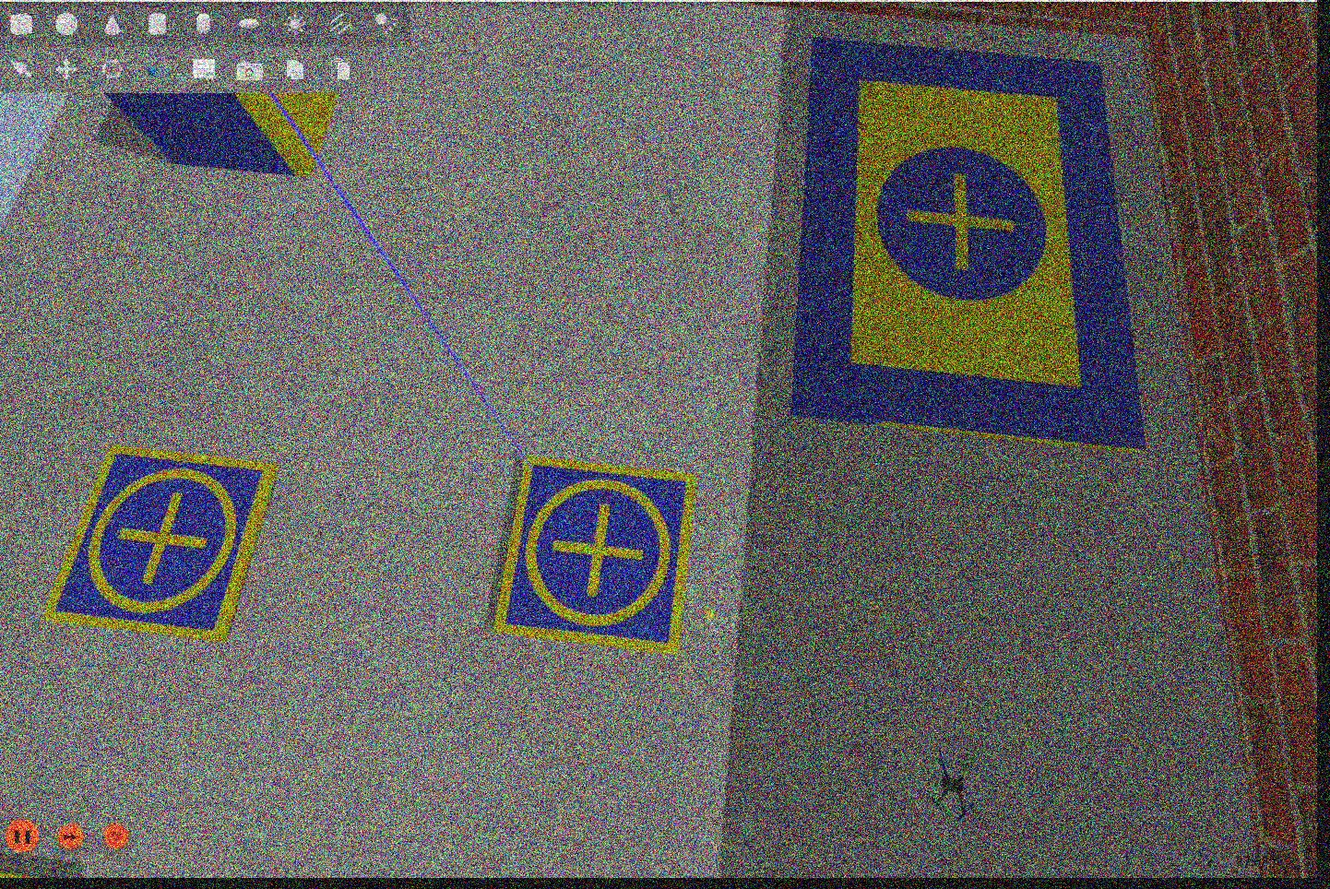large_base: (786, 41, 1152, 454)
small_base: (43, 443, 282, 646), (493, 454, 698, 660)
